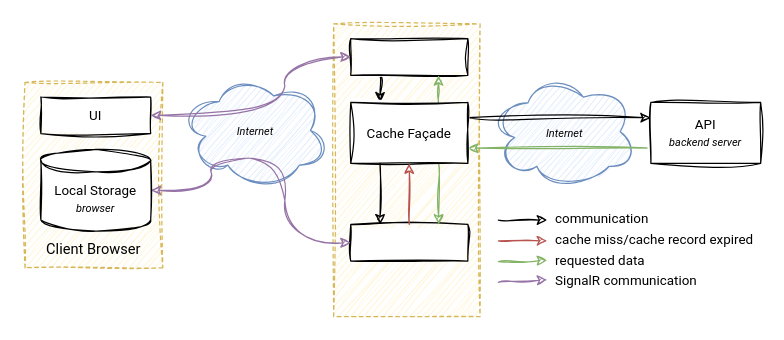
Some shapes in this 784 by 340 pixel diagram are drawn without their labels. The box of each missing label's shape, as (x1, y1, x2, y2) in pixels:
Blazor Hosting Server: (332, 23, 480, 317)
Cache Service: (350, 223, 468, 261)
DAL Service: (350, 37, 468, 75)
